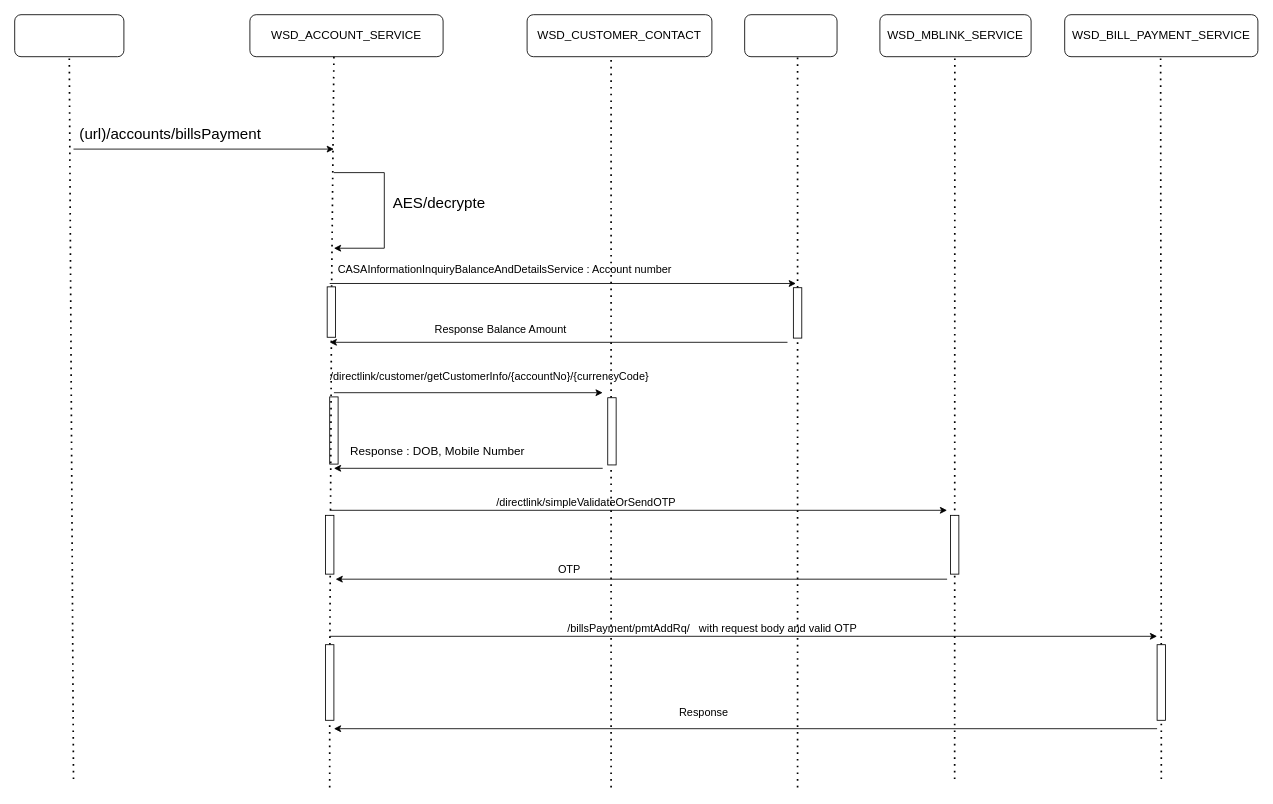
The diagram is 1273 pixels wide and 804 high, and some of its shapes have lost their labels. The shapes that lost their labels are listed below. From the top down, each one's centre as x and y in pixels, then its label:
[69,35]: Api Consumer
[790,35]: ESB
